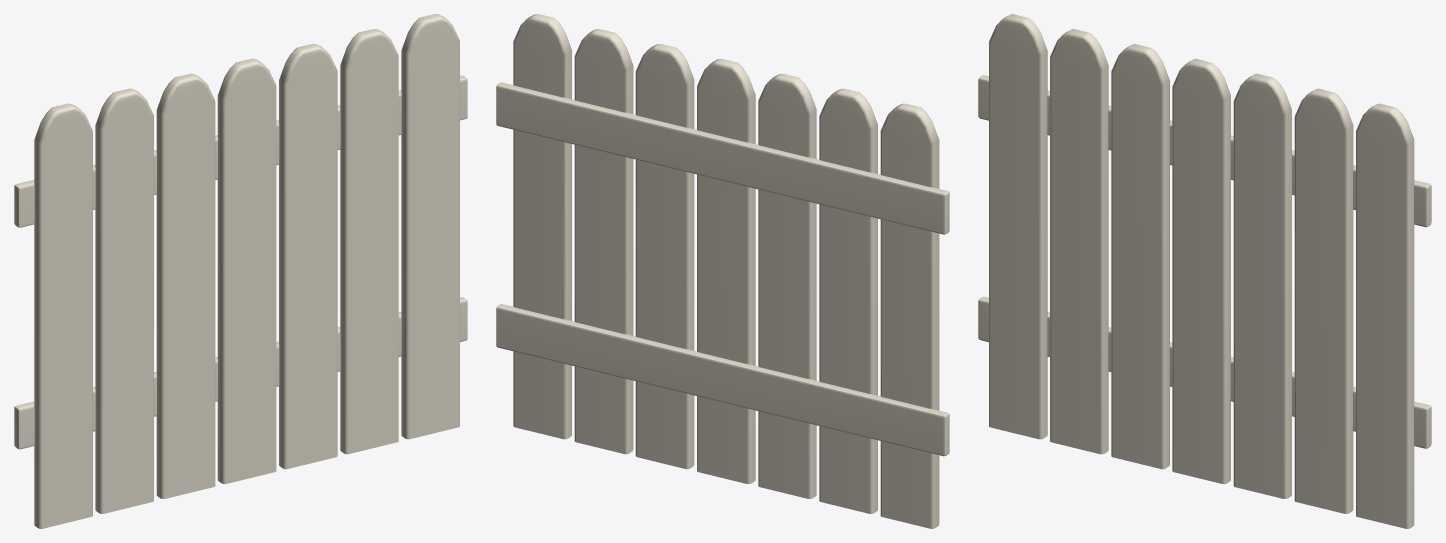
Rendered from Fence_MDL.fbx.
3 views of the same model, side by side, from view 1: azimuth 30°, elevation 25°; view 2: azimuth 150°, elevation 25°; view 3: azimuth 330°, elevation 25° (orthographic).
Visible parts, largest first — view 1: Fence_MDL; view 2: Fence_MDL; view 3: Fence_MDL.
Boxes of the visible parts, <box> form: Fence_MDL: <box>14,14,467,528</box>; Fence_MDL: <box>496,14,949,528</box>; Fence_MDL: <box>978,14,1431,528</box>.
Bounding box in the file's own units: 122 × 107 × 5.18.
